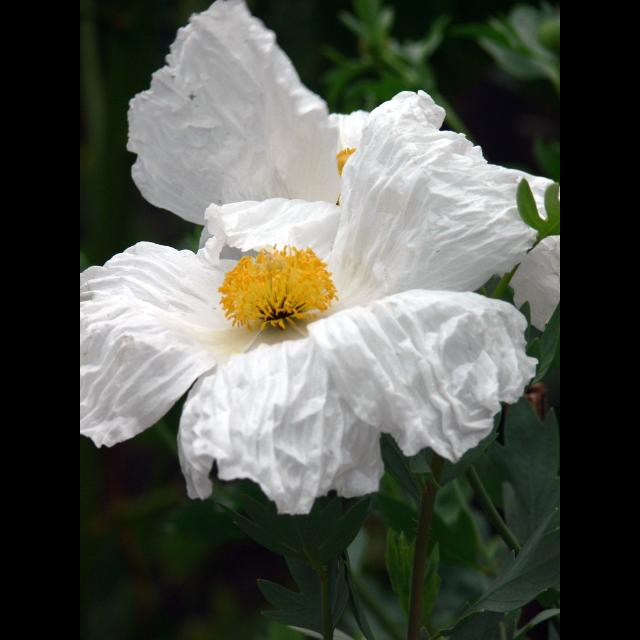Flower: (126, 1, 560, 333)
